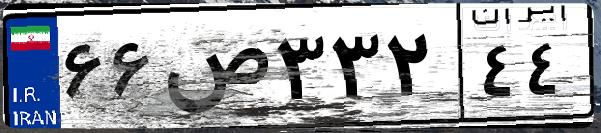2: (385, 28, 445, 110)
3: (270, 28, 330, 110), (330, 28, 385, 110)
4: (475, 38, 525, 113), (525, 38, 570, 115)
6: (57, 26, 110, 100), (110, 28, 158, 98)
ص: (158, 20, 270, 120)
